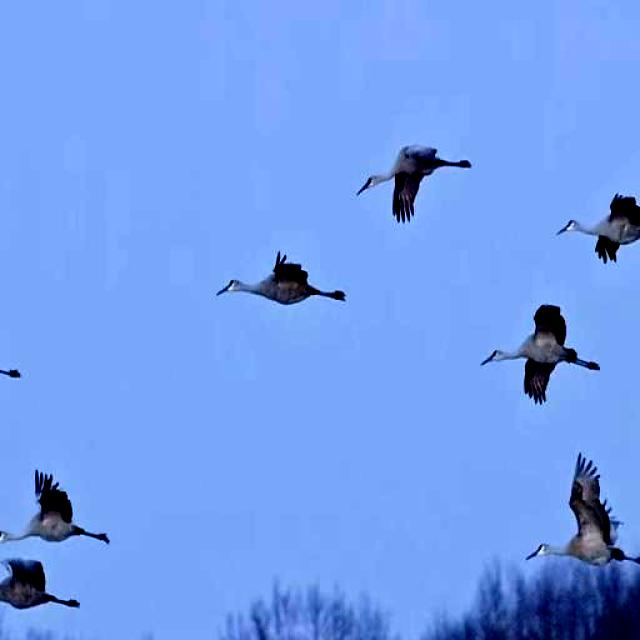airplane: (511, 445, 640, 585), (468, 300, 609, 408), (359, 116, 474, 236), (0, 460, 110, 551), (212, 244, 351, 312), (550, 175, 640, 270), (0, 551, 89, 630), (0, 306, 30, 426)
